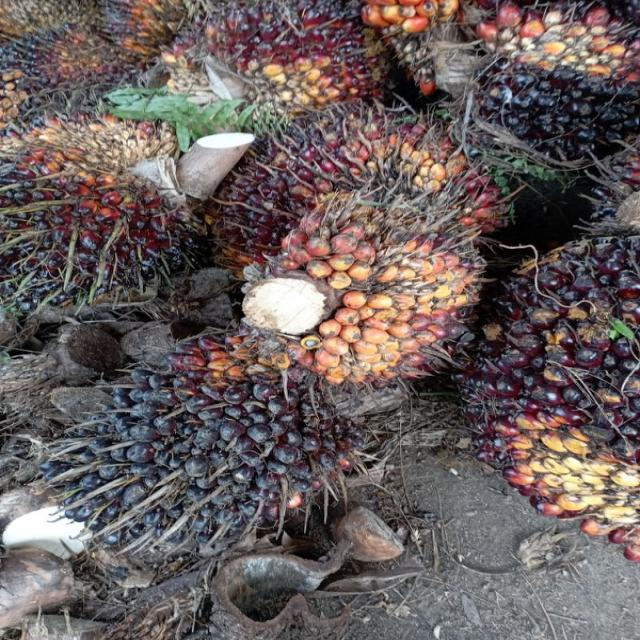fraksi 00: (61, 328, 384, 561), (471, 229, 640, 536)
fraksi 1: (256, 192, 477, 402), (0, 116, 207, 312), (175, 0, 388, 128)
